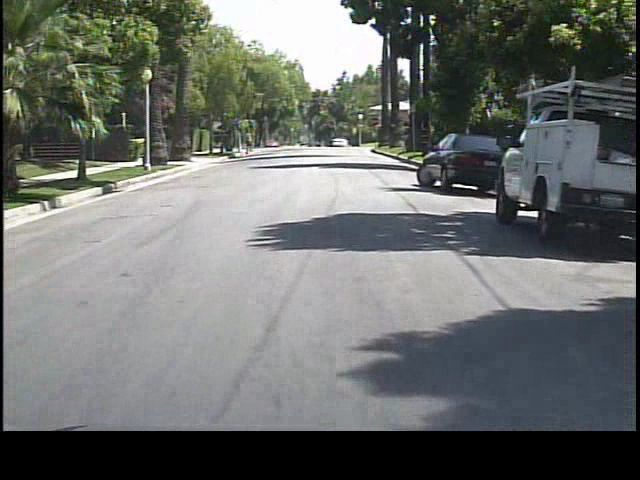person: (244, 129, 257, 158)
